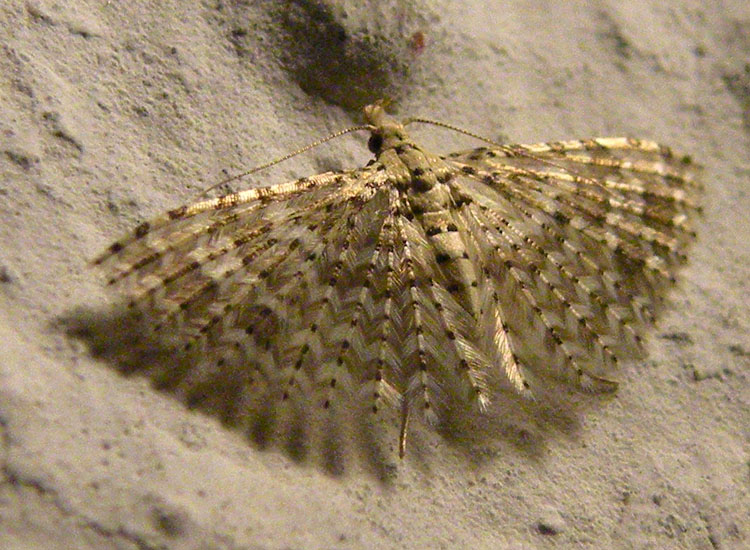Alucitidae: (84, 90, 716, 474)
moth: (82, 88, 714, 472)
